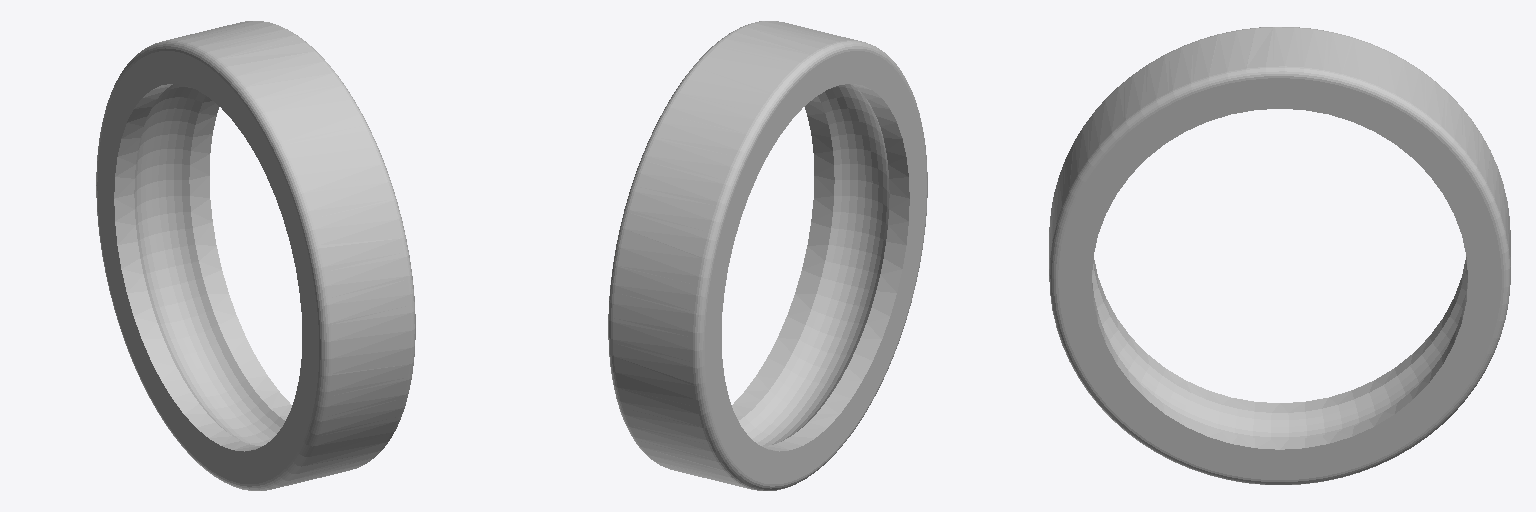
File: outer_ring.obj
The picture shows the model from 3 angles: view 1: azimuth 30°, elevation 25°; view 2: azimuth 150°, elevation 25°; view 3: azimuth 270°, elevation 25°; orthographic projection.
Parts seen in each view (by area): view 1: Outer Ring.SLDPRT; view 2: Outer Ring.SLDPRT; view 3: Outer Ring.SLDPRT.
Part boxes in pixels (x1,y1,x2,y2): Outer Ring.SLDPRT: (96, 21, 415, 490); Outer Ring.SLDPRT: (608, 21, 927, 490); Outer Ring.SLDPRT: (1049, 27, 1510, 484).
Size of the model in its own units: 31 by 130 by 130.